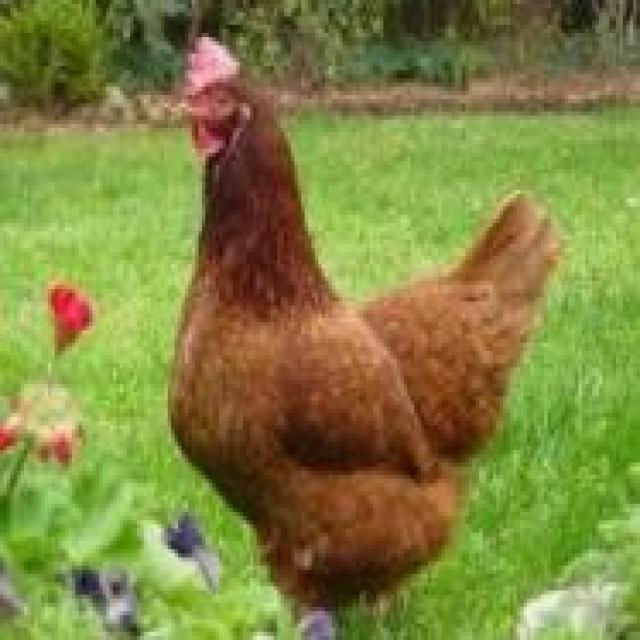Healthy: (158, 25, 572, 623)
